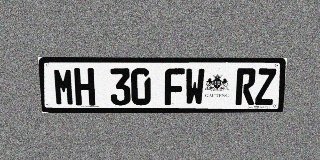0: (131, 68, 151, 105)
3: (110, 68, 130, 105)
F: (165, 68, 185, 105)
H: (74, 68, 95, 106)
M: (53, 68, 75, 106)
R: (235, 68, 256, 105)
W: (185, 68, 205, 105)
Z: (255, 68, 276, 105)
